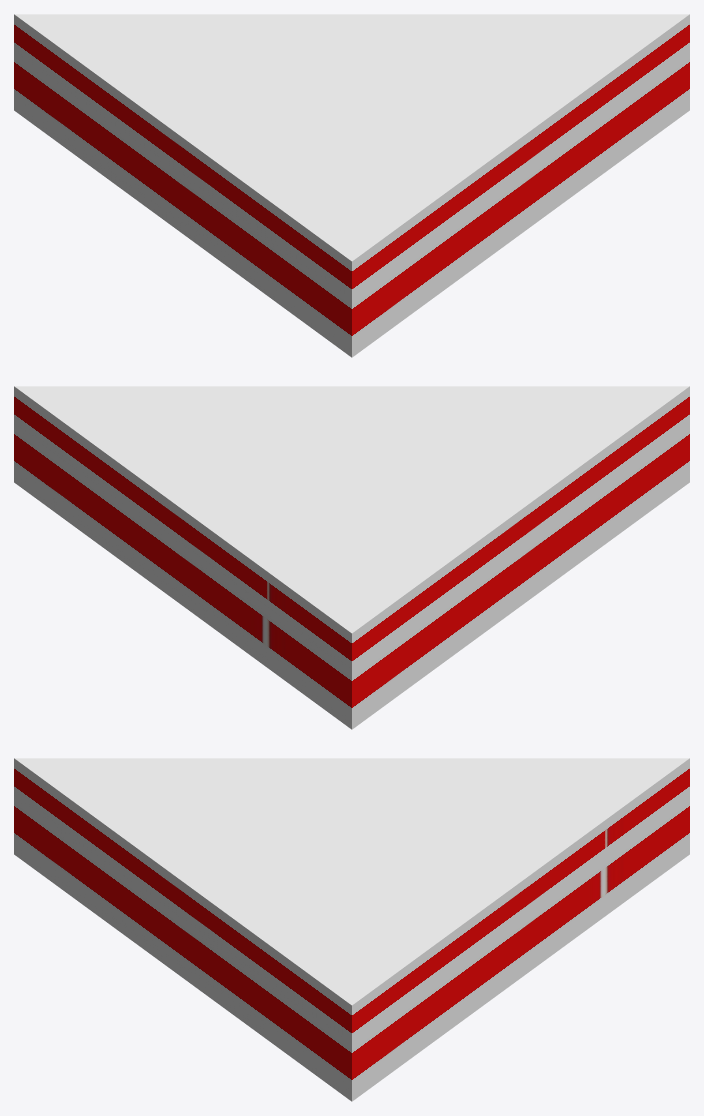
3 views of the same model, one above another, from view 1: azimuth 30°, elevation 25°; view 2: azimuth 150°, elevation 25°; view 3: azimuth 270°, elevation 25° (orthographic).
Visible parts, largest first — view 1: Cylinder01; view 2: Cylinder01; view 3: Cylinder01.
Part boxes in pixels (x1,y1,x2,y2): Cylinder01: [14, 14, 689, 357]; Cylinder01: [14, 386, 689, 729]; Cylinder01: [14, 758, 689, 1101].
Bounding box in the file's own units: 17.67 × 20.4 × 3.2.
1 material, 1 textured.
